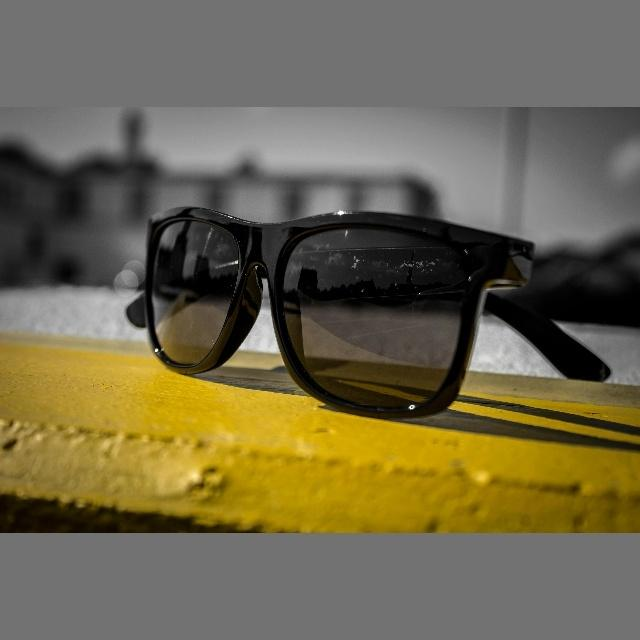Sunglasses: (132, 200, 536, 428)
